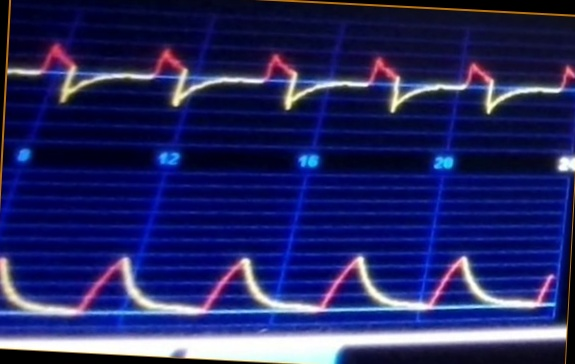Accumulation Flow: (14, 20, 575, 137)
Volume: (1, 226, 555, 322)
